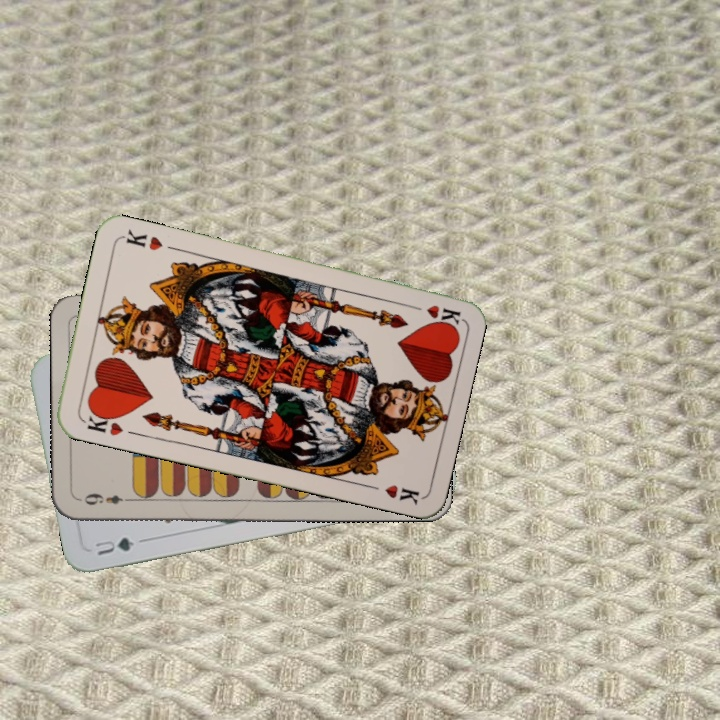E9: (80, 489, 135, 507)
GU: (91, 533, 137, 558)
HK: (403, 299, 462, 327), (78, 406, 126, 438)
